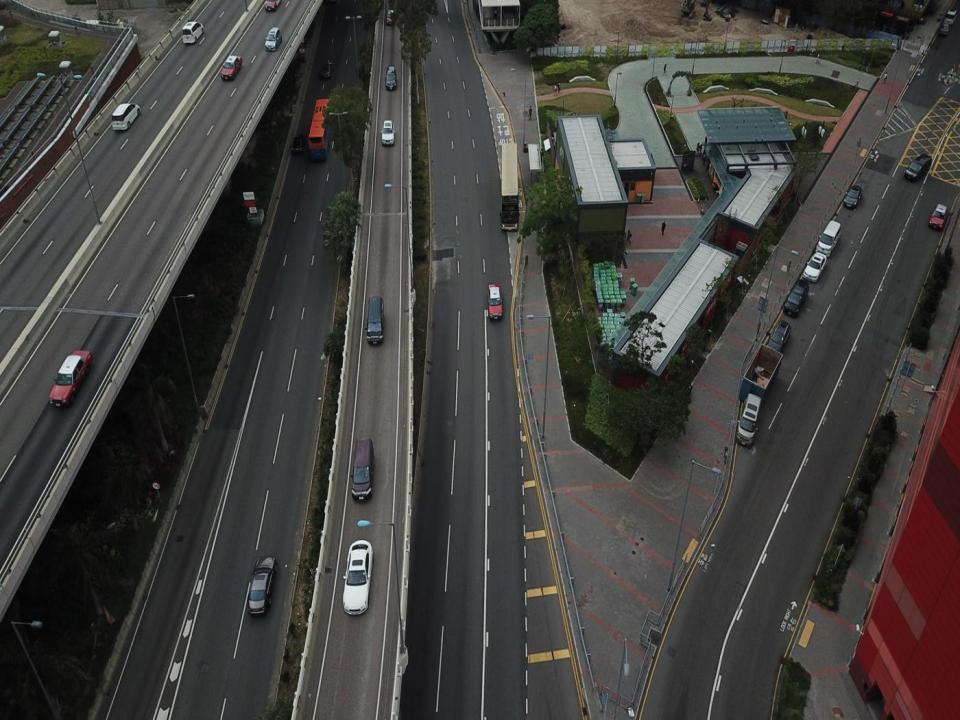bus: (500, 142, 520, 232), (308, 97, 336, 160), (867, 2, 912, 40)
car: (48, 349, 92, 407), (342, 539, 373, 617), (248, 557, 278, 612), (783, 279, 810, 318), (112, 102, 141, 131), (766, 322, 792, 352), (804, 253, 828, 282), (487, 281, 504, 320), (928, 202, 948, 230), (180, 21, 204, 44), (221, 56, 243, 81), (379, 118, 397, 147), (843, 184, 863, 209), (264, 26, 283, 51), (384, 64, 398, 91), (291, 132, 306, 156), (943, 8, 956, 28), (321, 60, 334, 80), (262, 0, 281, 12), (385, 9, 395, 28), (940, 19, 950, 36)
van: (348, 437, 376, 502), (735, 392, 763, 448), (363, 294, 386, 348), (816, 218, 842, 257), (903, 153, 933, 181)
